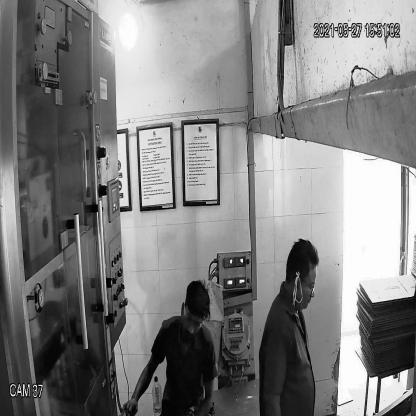goggles: (179, 304, 204, 334)
